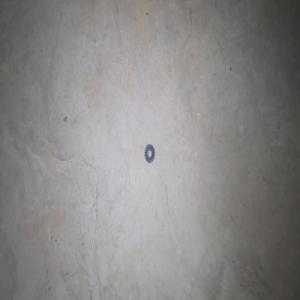Washer: (144, 144, 155, 163)
